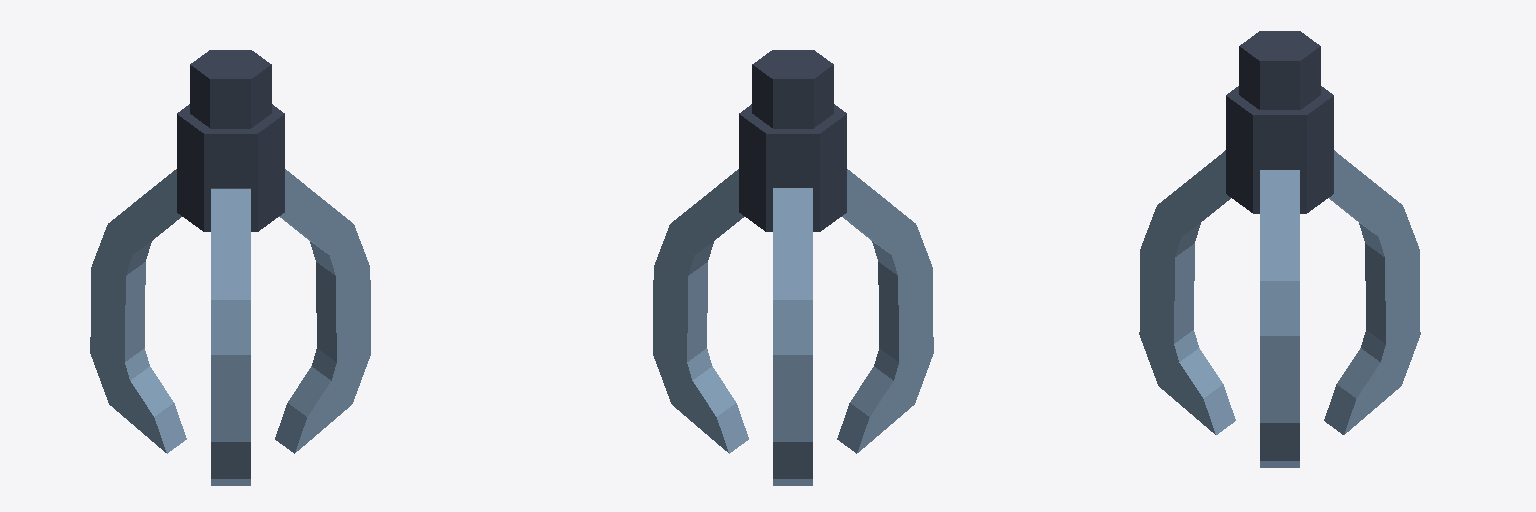
3 renders of one model, left to right at view 1: azimuth 30°, elevation 25°; view 2: azimuth 150°, elevation 25°; view 3: azimuth 270°, elevation 25°, orthographic.
Visible parts, largest first — view 1: Cylinder; view 2: Cylinder; view 3: Cylinder.
Boxes of the visible parts, x1,y1,x2,y2 form: Cylinder: [90, 50, 370, 485]; Cylinder: [653, 50, 933, 485]; Cylinder: [1139, 31, 1420, 467].
Size of the model in its own units: 3.57 by 6.4 by 4.12.
1 materials, 1 textured.